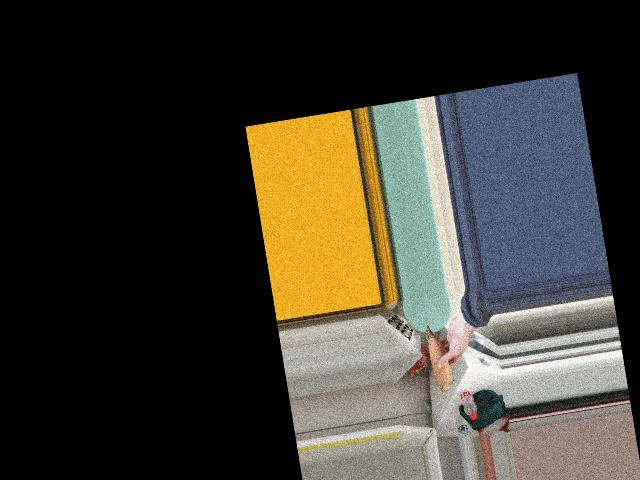sweet_potato: (419, 323, 454, 391)
